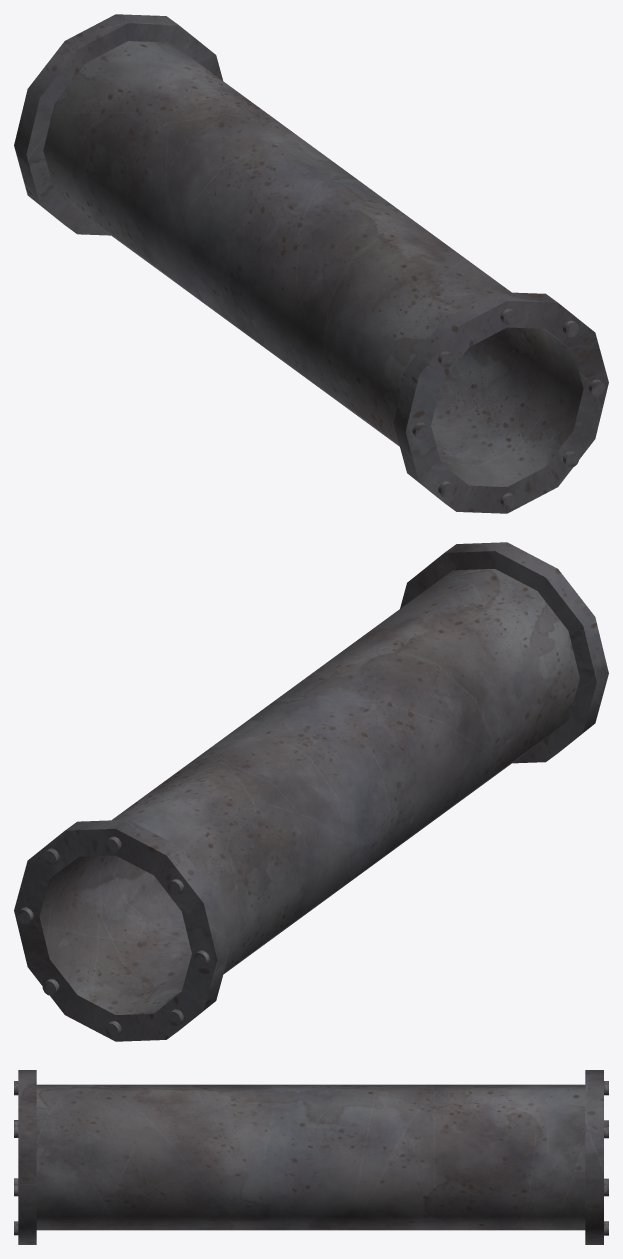
Rendered from Pipe_Medium.fbx.
3 views of the same model, one above another, from view 1: azimuth 30°, elevation 25°; view 2: azimuth 150°, elevation 25°; view 3: azimuth 270°, elevation 25° (orthographic). The views are drawn at different scales.
Visible parts, largest first — view 1: Straight Medium1; view 2: Straight Medium1; view 3: Straight Medium1.
Boxes of the visible parts, x1,y1,x2,y2 form: Straight Medium1: (14,14,608,513); Straight Medium1: (14,542,608,1041); Straight Medium1: (14,1070,608,1244).
Bounding box in the file's own units: 6 × 6 × 20.33.
